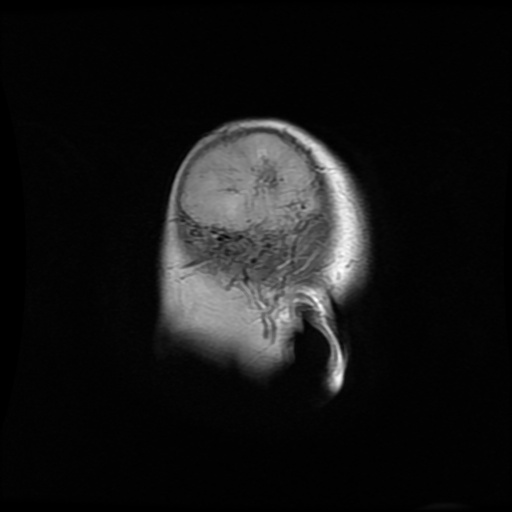meningioma: (183, 133, 316, 231)
